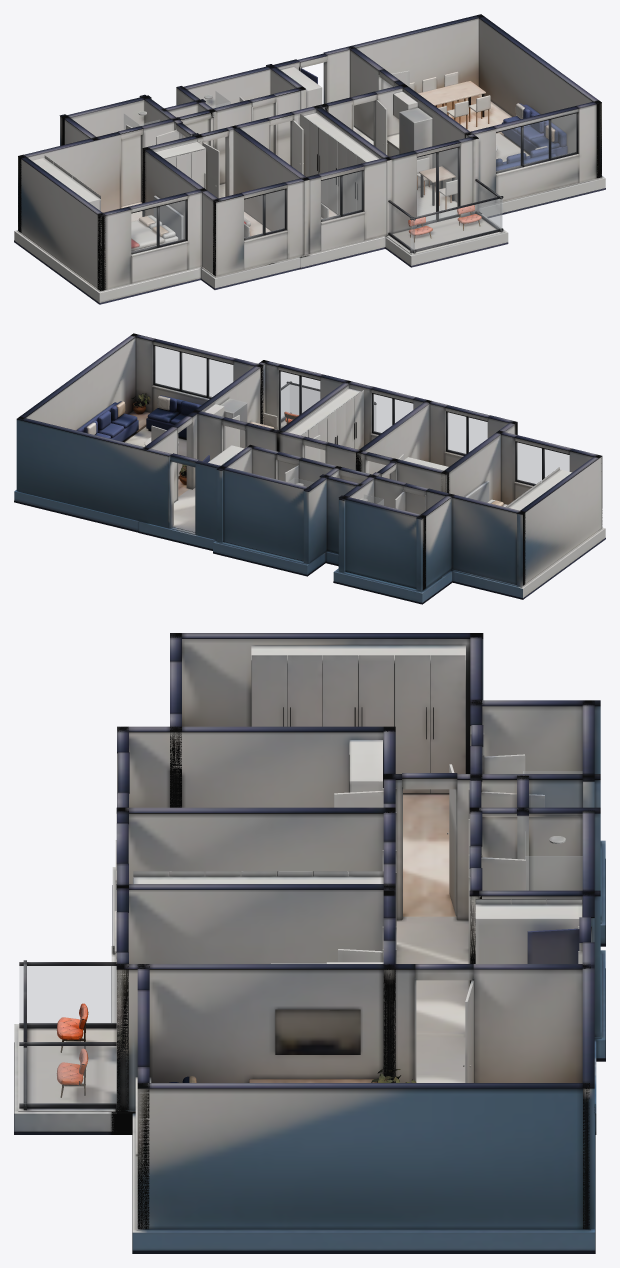
The picture shows the model from 3 angles, top to bottom: view 1: azimuth 30°, elevation 25°; view 2: azimuth 150°, elevation 25°; view 3: azimuth 270°, elevation 25°; orthographic projection. The views are drawn at different scales.
Visible parts, largest first — view 1: plan, glass4_m, railg2_m, glass3_m, glass0_m, glass2_m, glass1_m, railg3_m, railg4_m; view 2: plan, glass4_m, glass3_m, glass0_m, glass1_m, glass2_m, railg2_m; view 3: plan, railg4_m, railg3_m, sg.002_m.
Boxes of the visible parts, left/top/right/bottom form: plan: left=14, top=14, right=605, bottom=304; glass4_m: left=496, top=113, right=576, bottom=171; railg2_m: left=411, top=199, right=502, bottom=250; glass3_m: left=417, top=148, right=458, bottom=221; glass0_m: left=131, top=200, right=185, bottom=251; glass2_m: left=321, top=171, right=362, bottom=219; glass1_m: left=244, top=190, right=284, bottom=238; railg3_m: left=389, top=203, right=414, bottom=250; railg4_m: left=476, top=182, right=501, bottom=229; plan: left=14, top=333, right=605, bottom=604; glass4_m: left=155, top=346, right=232, bottom=396; glass3_m: left=280, top=371, right=319, bottom=428; glass0_m: left=517, top=442, right=569, bottom=484; glass1_m: left=447, top=412, right=487, bottom=453; glass2_m: left=373, top=394, right=412, bottom=432; railg2_m: left=290, top=385, right=375, bottom=430; plan: left=14, top=633, right=605, bottom=1253; railg4_m: left=19, top=1046, right=116, bottom=1103; railg3_m: left=19, top=966, right=116, bottom=1023; sg.002_m: left=525, top=856, right=582, bottom=890.
Bounding box in the file's own units: 15.77 × 2.62 × 8.59.
Materials: 2 (1 with a texture image).
